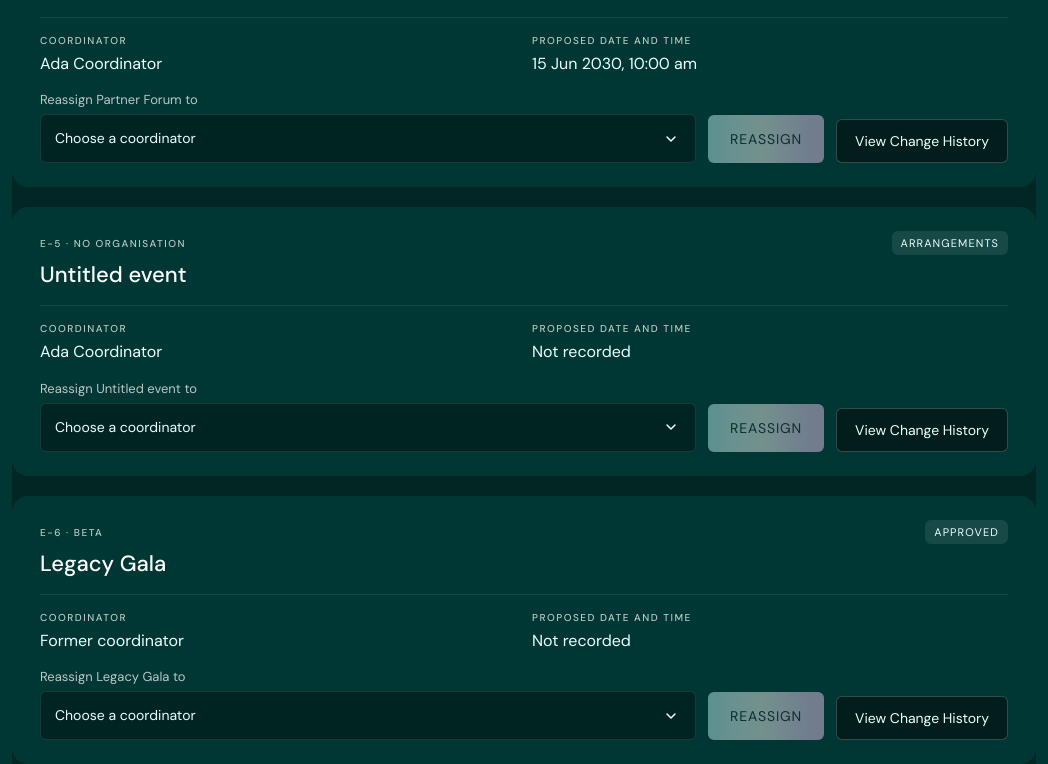
Test: CoordinatorOverview (SG2-89) › [BOUNDARY] [SG2-89:AC6] when the answer carries no status, the event's own status is named
(page scrolled)
Select "Ada Coordinator" in the dropdown labelled "Reassign Legacy Gala to" at (368, 716), box [40,691,696,740]
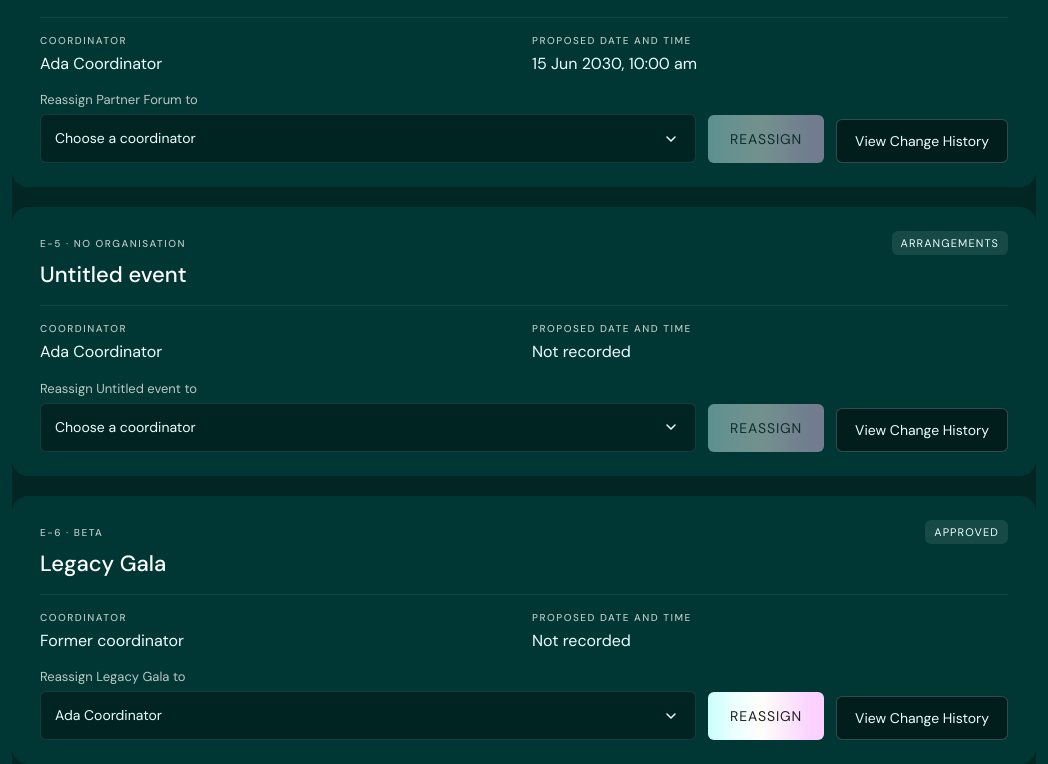
Click the button "Reassign" below "Approved".
click(766, 716)  # box [708,692,824,740]
(page scrolled)
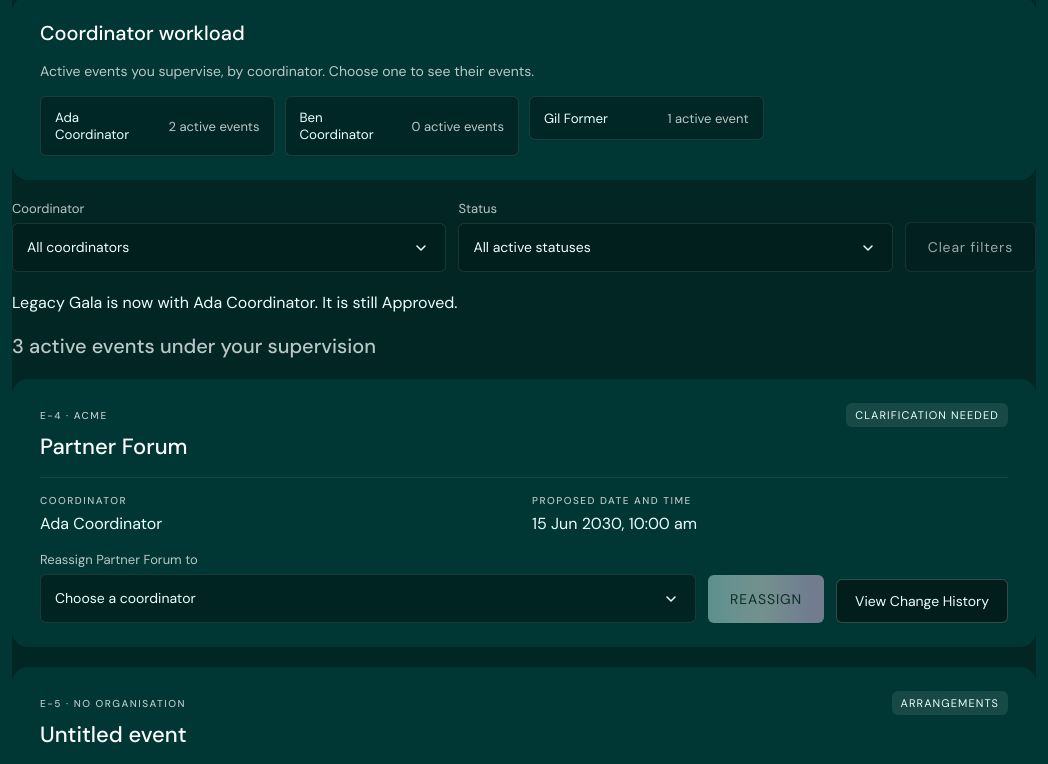
expect the text "Legacy Gala is now with Ada Coordinator. It is still Approved." is shown: met, box [12,292,458,313]
